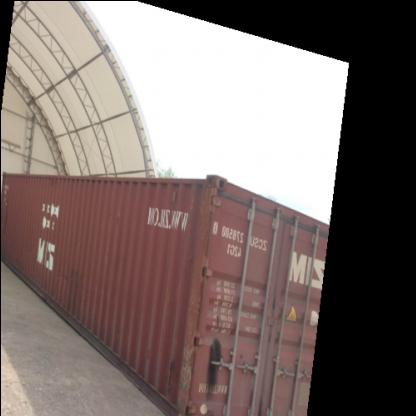Damage: (202, 340, 229, 396), (62, 264, 90, 310), (158, 354, 182, 394), (43, 169, 65, 185), (168, 184, 180, 203), (233, 350, 248, 363)
